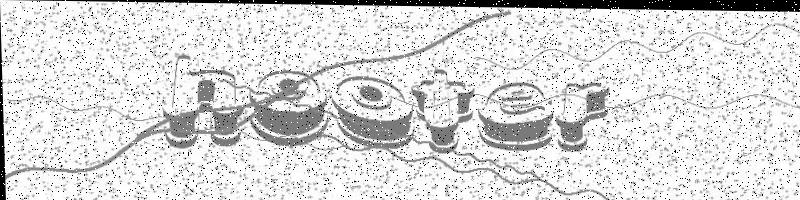e: (478, 81, 555, 149)
h: (162, 54, 244, 149)
o: (330, 74, 415, 147), (249, 69, 328, 146)
r: (555, 80, 610, 149)
t: (410, 68, 475, 152)
